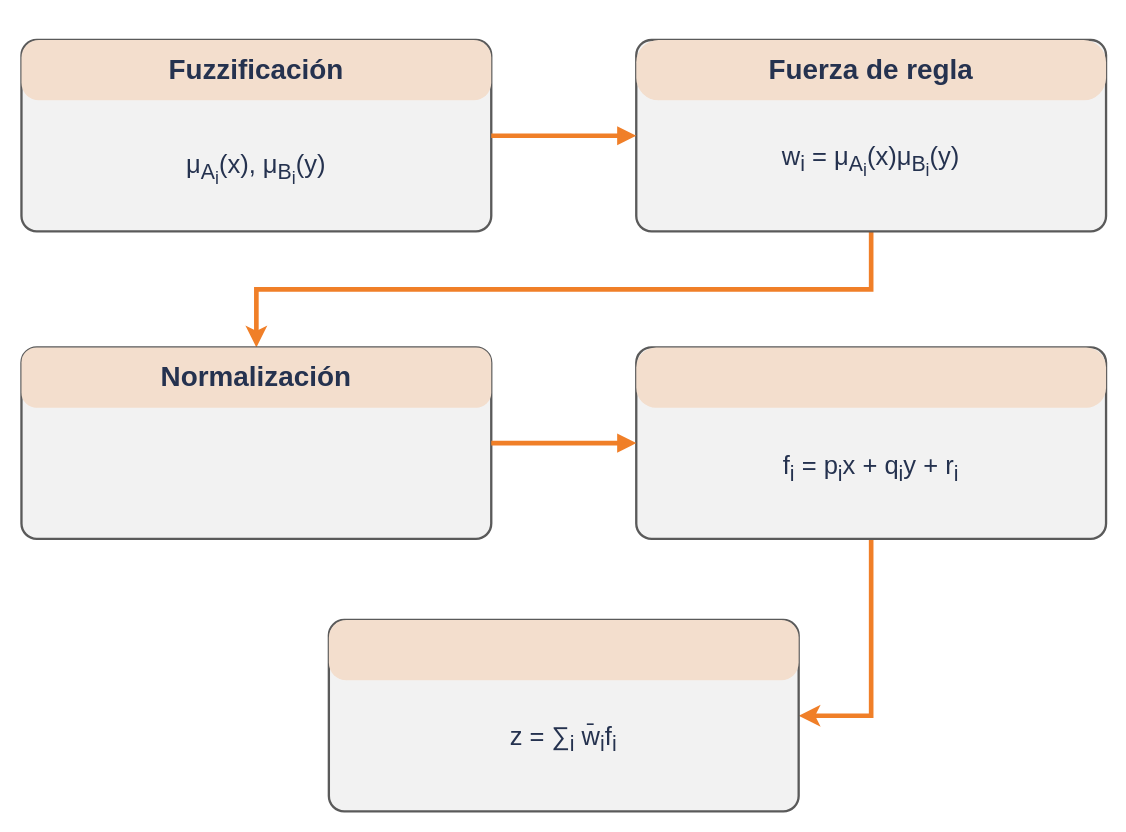
Some shapes in this 1126 by 832 pixel diagram are drawn without their labels. The box of each missing label's shape, as (x1, y1, x2, y2) in pixels:
Consecuente: (636, 347, 1105, 407)
Salida: (328, 619, 798, 680)
w̄ i = w i / ∑ j w j: (20, 346, 492, 539)
